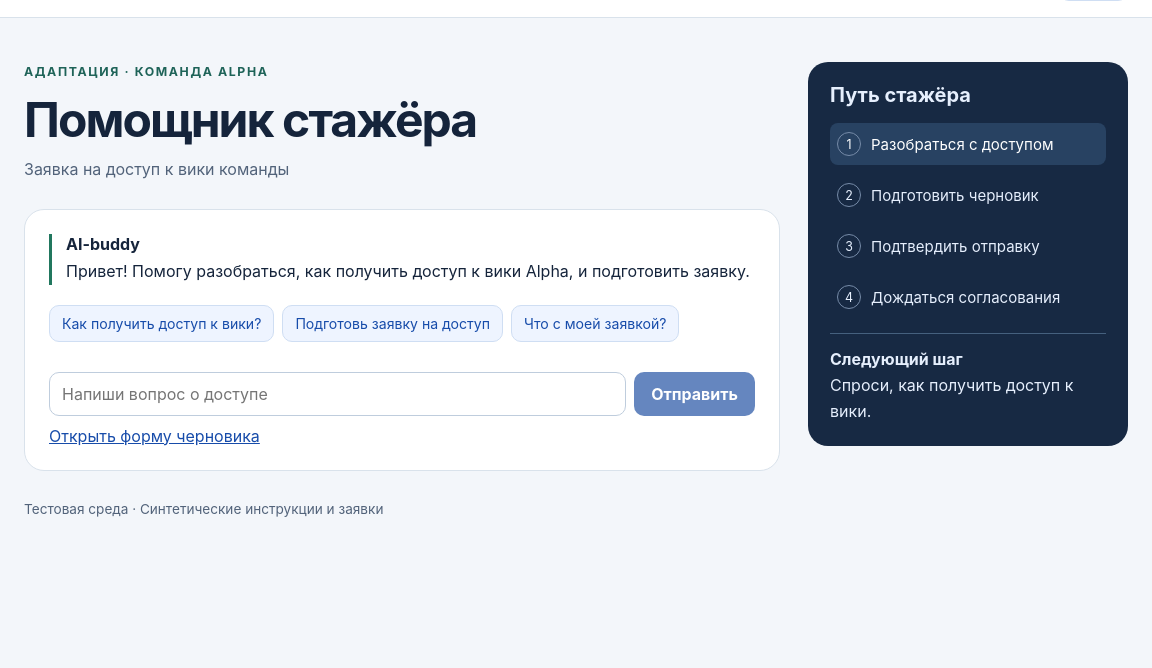
Scenario: AI-buddy › handles failed chat and offers the direct form
Click the button "Как получить доступ к вики?". click: (162, 323)
box: [49,304,274,342]
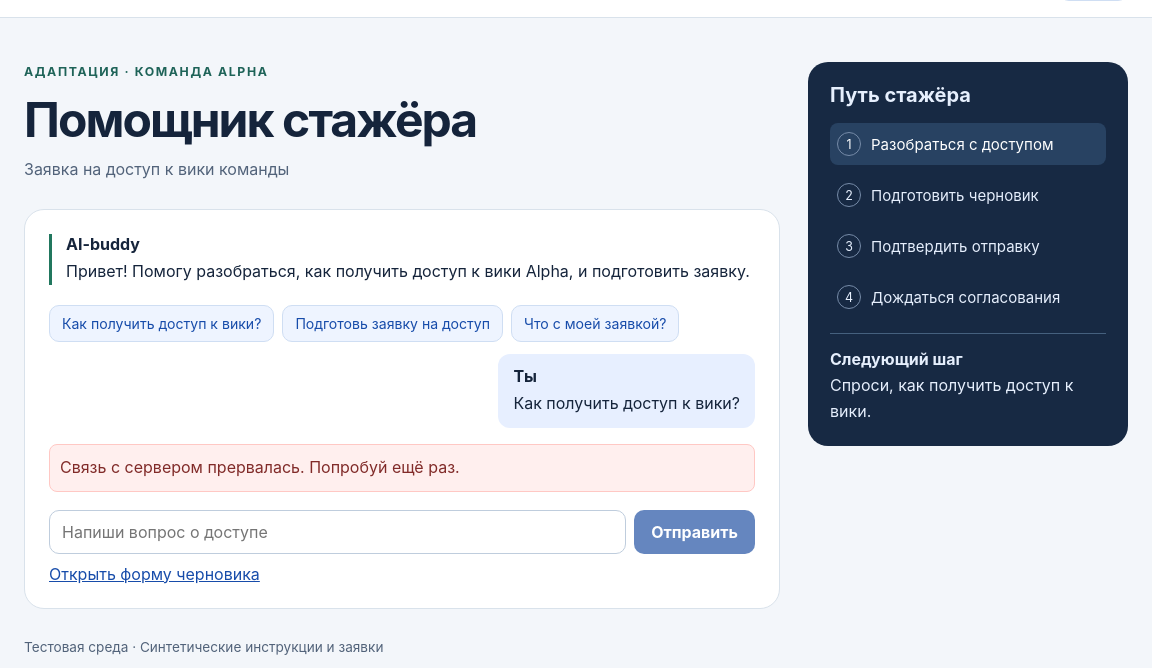
Check: the message shows "Связь", box [60,457,460,477]
Click the button "Открыть форму черновика". click: (154, 574)
box: [49,564,260,584]
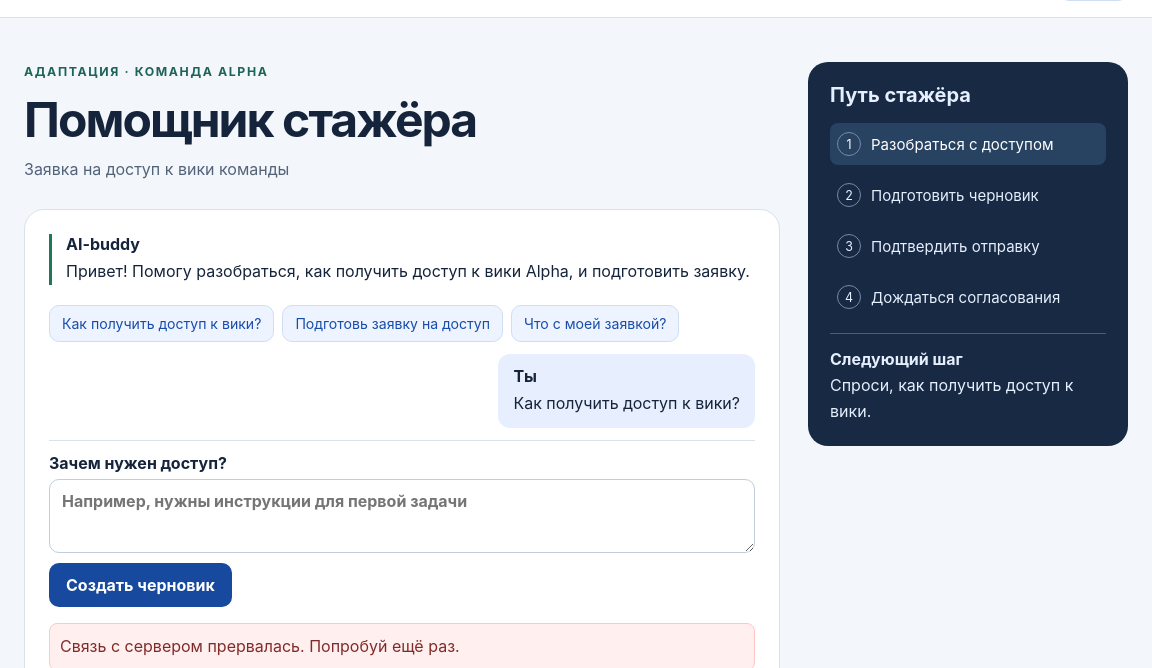
Type "Нужна вики" into the text box labelled "Зачем нужен доступ?". click: (402, 516)
box: [49,479,755,553]
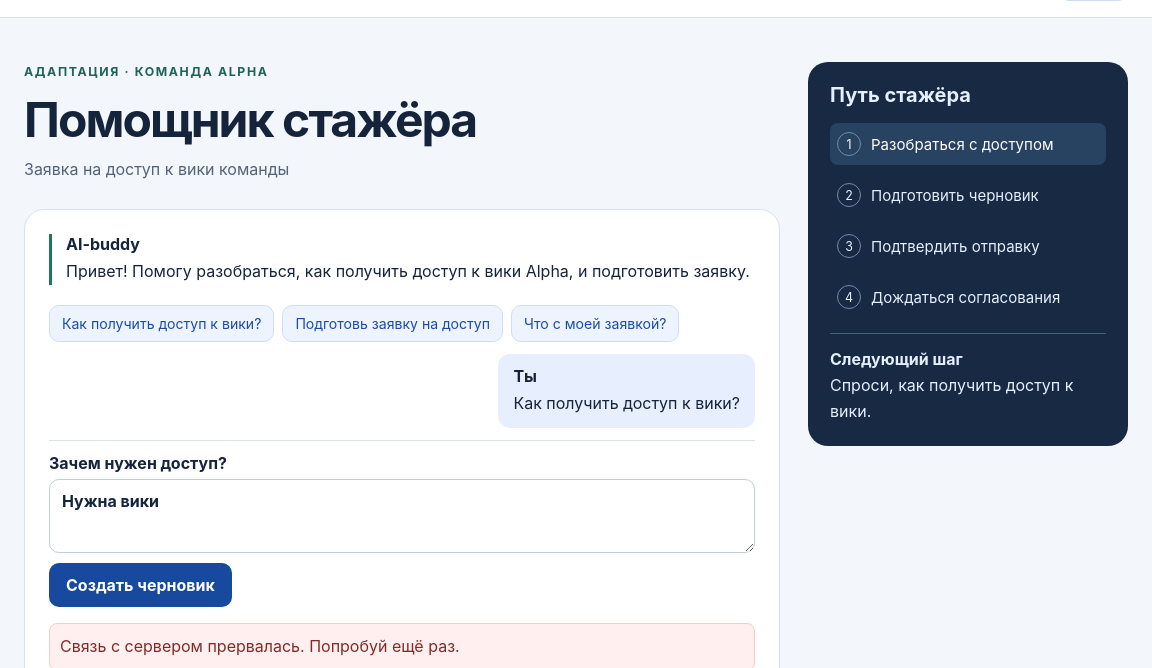
Click the button "Создать черновик". click: (140, 585)
box: [49,563,232,607]
(page scrolled)
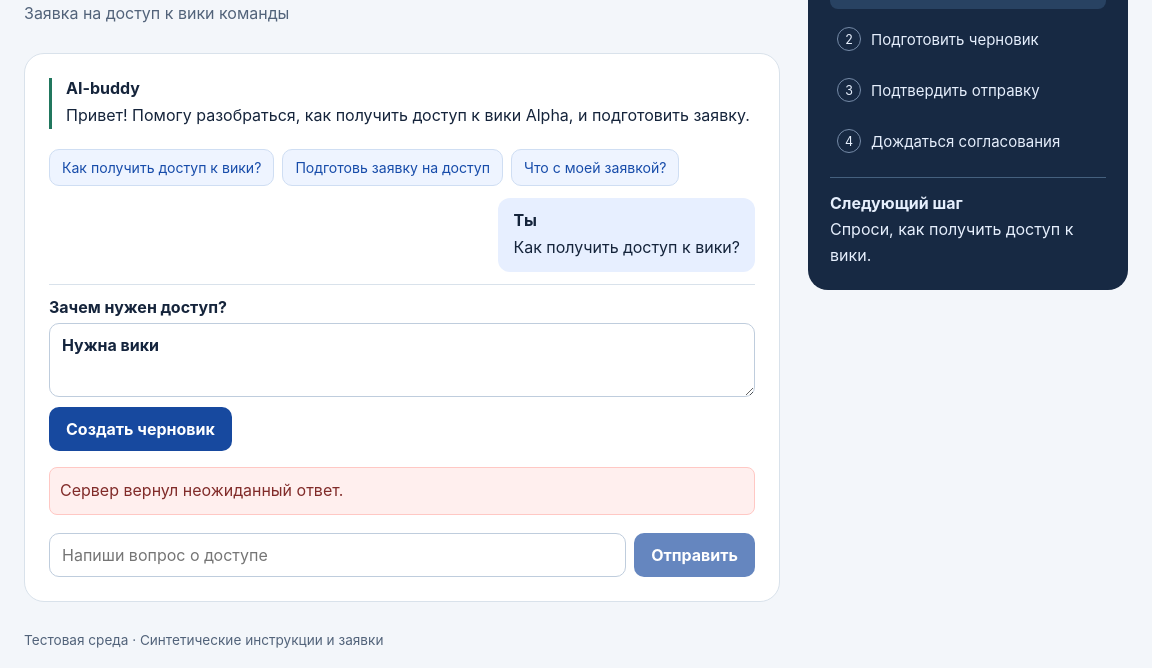
Check: the message shows "неожиданный ответ", box [60,480,343,500]
